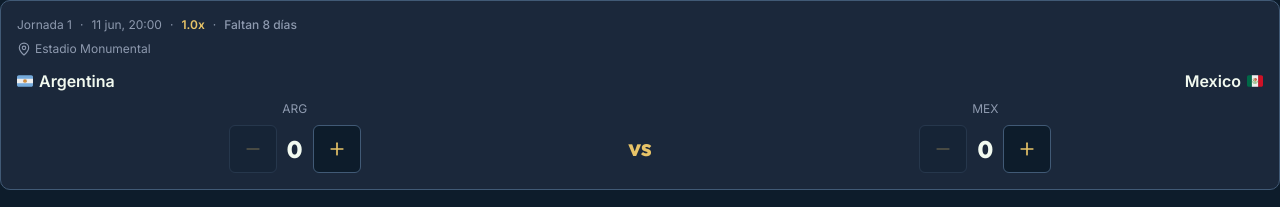
Test: MatchCard › un error de kickoff del servidor es definitivo y no entra en retry offline
Step 1. Click the button named "Incrementar goles de Argentina" → (337, 149), box x1=313 y1=125 x2=361 y2=173
Wait 1500 ms
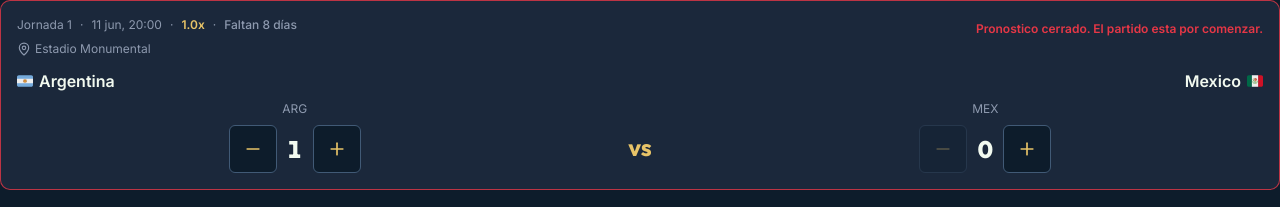
Now the text "Pronostico cerrado. El partido esta por comenzar." is shown, box x1=976 y1=21 x2=1263 y2=37
